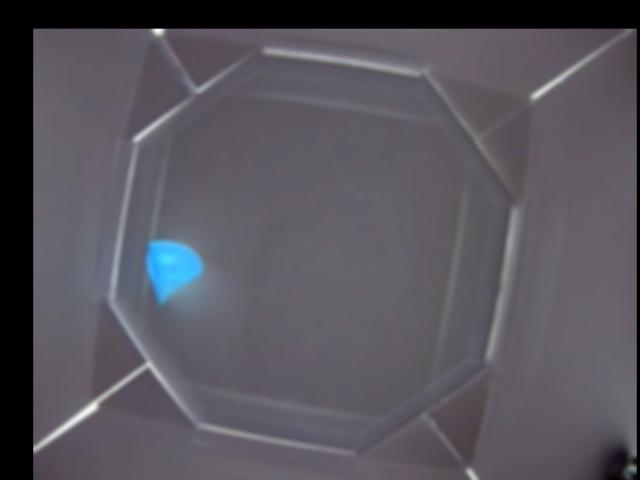Carrot: (146, 239, 202, 304)
